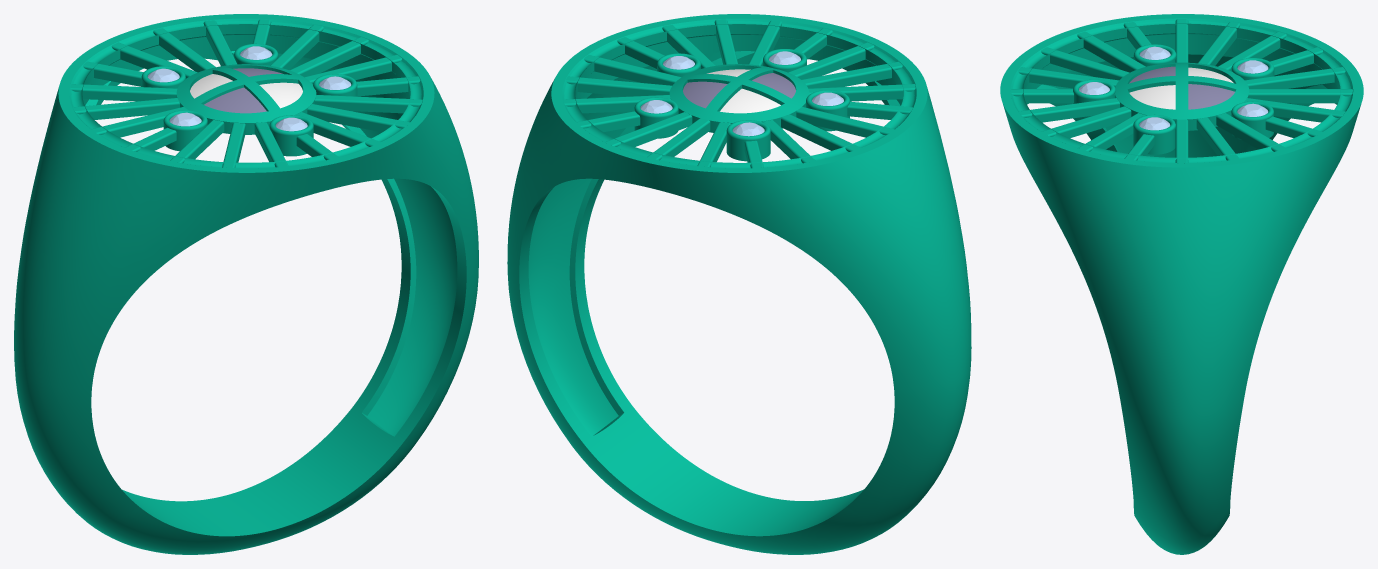
3 renders of one model, left to right at view 1: azimuth 30°, elevation 25°; view 2: azimuth 150°, elevation 25°; view 3: azimuth 270°, elevation 25°, orthographic. The views are drawn at different scales.
Parts seen in each view (by area): view 1: 86 Anillo Hombre BMW.3dm; view 2: 86 Anillo Hombre BMW.3dm; view 3: 86 Anillo Hombre BMW.3dm.
Part boxes in pixels (x1,y1,x2,y2): 86 Anillo Hombre BMW.3dm: [14, 14, 478, 554]; 86 Anillo Hombre BMW.3dm: [507, 14, 971, 554]; 86 Anillo Hombre BMW.3dm: [1000, 14, 1363, 554].
Size of the model in its own units: 2.53 by 2.5 by 1.84.
